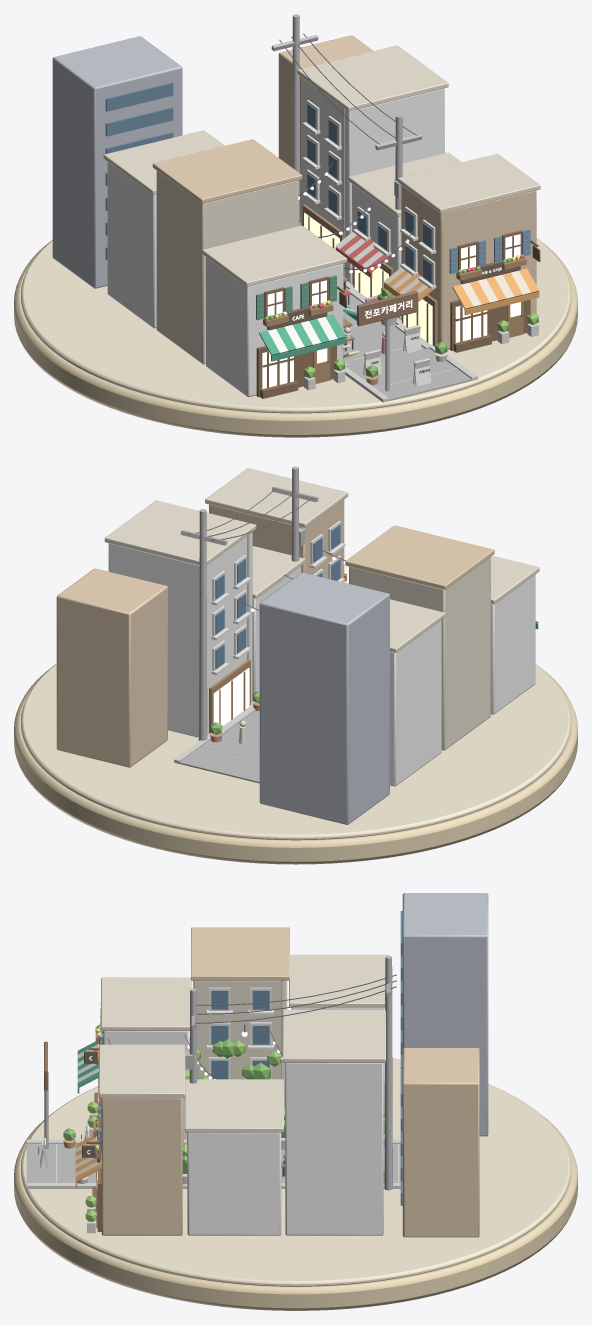
The model's file is jeonpocaferoad.glb.
3 views of the same model, one above another, from view 1: azimuth 30°, elevation 25°; view 2: azimuth 150°, elevation 25°; view 3: azimuth 270°, elevation 25° (orthographic).
Parts seen in each view (by area): view 1: Base_Top.002, Office2, Base.003, Bld_L2, Bld_R3, Bld_L1, Bld_R1, Bld_L3, Bld_R3_Cornice, Bld_L2_Cornice, Bld_L1_Cornice, Bld_R1_Cornice (+16 smaller); view 2: Base_Top.002, Office2, Office3, Base.003, Bld_R3, Bld_L2, Bld_L3, Bld_L2_Cornice, Bld_R3_Cornice, Bld_L1, Bld_R1_Cornice, Bld_R1 (+9 smaller); view 3: Base_Top.002, Bld_R3, Base.003, Office3, Office2, Bld_R1, Bld_R2, Bld_R3_Cornice, Bld_L2_Cornice, Bld_R2_Cornice, Bld_L3_Cornice, Bld_L1_Cornice (+7 smaller).
Boxes of the visible parts, x1,y1,x2,y2 form: Base_Top.002: (21, 223, 570, 413); Office2: (52, 36, 182, 288); Base.003: (14, 241, 577, 437); Bld_L2: (156, 171, 298, 364); Bld_R3: (301, 77, 444, 283); Bld_L1: (205, 257, 343, 397); Bld_R1: (401, 185, 536, 349); Bld_L3: (107, 162, 156, 328); Bld_R3_Cornice: (297, 45, 448, 111); Bld_L2_Cornice: (152, 139, 302, 203); Bld_L1_Cornice: (202, 225, 347, 286); Bld_R1_Cornice: (397, 153, 540, 213); Base_Top.002: (21, 664, 570, 840); Office2: (259, 572, 389, 824); Office3: (56, 568, 167, 767); Base.003: (14, 667, 577, 864); Bld_R3: (108, 532, 252, 737); Bld_L2: (349, 557, 490, 750); Bld_L3: (390, 620, 441, 786); Bld_L2_Cornice: (345, 525, 494, 589); Bld_R3_Cornice: (104, 500, 256, 564); Bld_L1: (491, 574, 535, 714); Bld_R1_Cornice: (205, 468, 348, 527); Bld_R1: (209, 500, 344, 578); Base_Top.002: (21, 1058, 570, 1286); Bld_R3: (285, 1063, 383, 1235); Base.003: (14, 1113, 577, 1310); Office3: (402, 1047, 479, 1237); Office2: (402, 893, 488, 1136); Bld_R1: (101, 1097, 182, 1235); Bld_R2: (187, 1132, 281, 1235); Bld_R3_Cornice: (282, 1009, 385, 1062); Bld_L2_Cornice: (191, 927, 289, 980); Bld_R2_Cornice: (185, 1079, 283, 1132); Bld_L3_Cornice: (289, 954, 388, 1007); Bld_L1_Cornice: (101, 977, 191, 1030).
Bounding box in the file's own units: 6.6 × 3.35 × 6.6.
